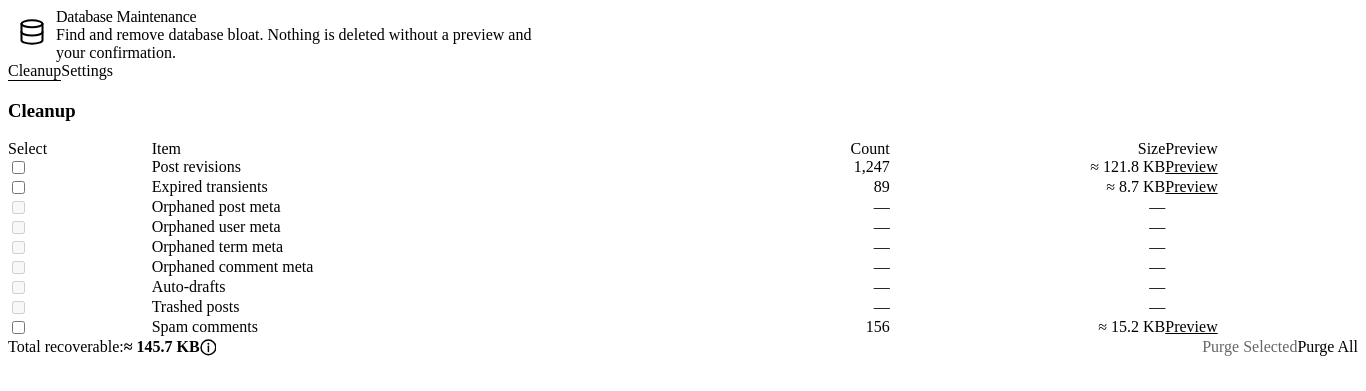
Test case: CleanupView › Preview loads and shows sample rows without purging
Click the button "Preview" in the row of "Spam comments". click: coordinates (1192, 327)
box: [1165, 318, 1218, 336]
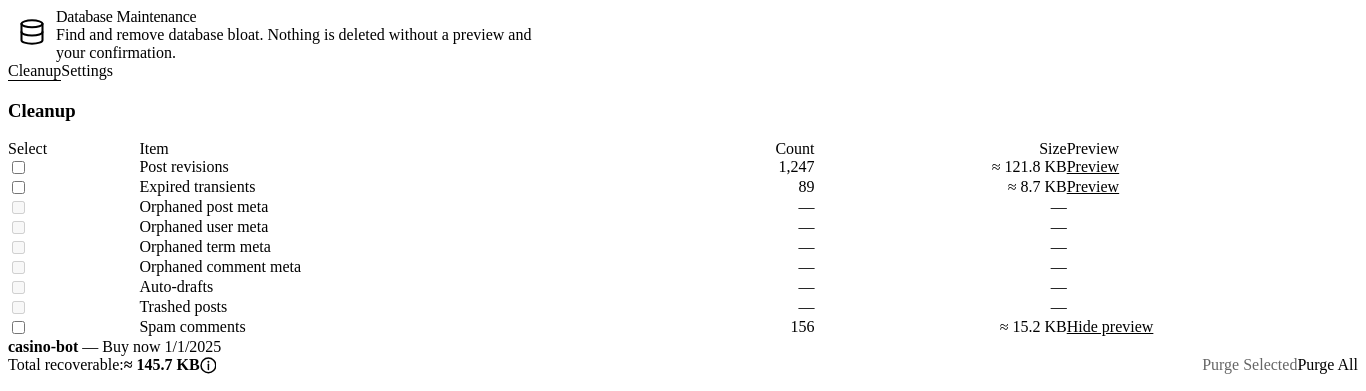
Expected: the text "casino-bot" is shown, [8, 338, 78, 355]
